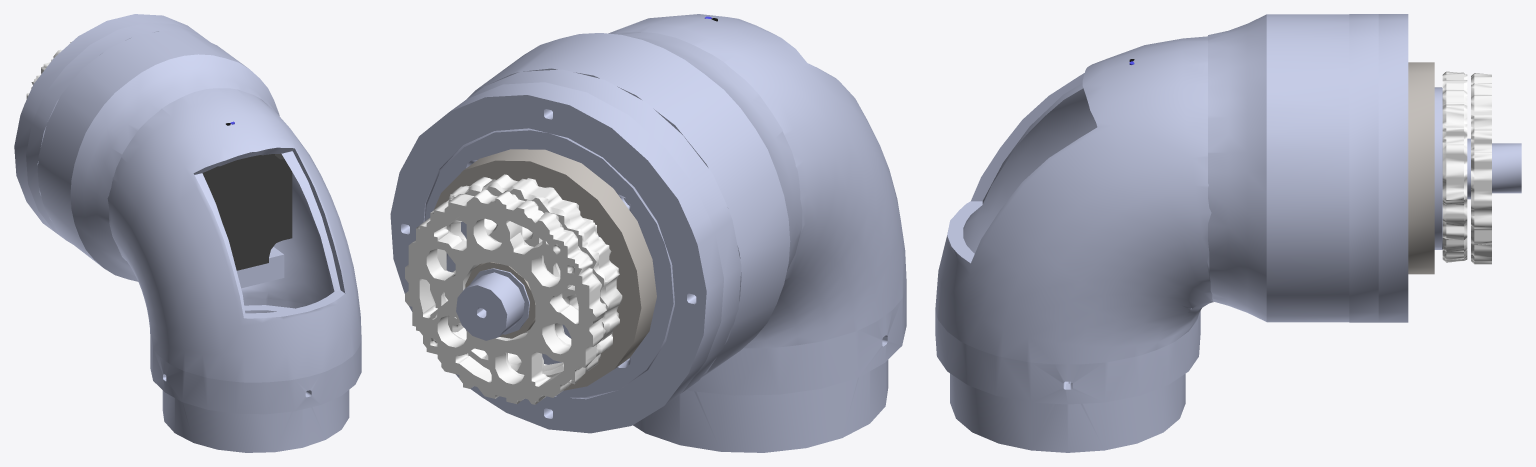
The model's file is shoulder_link.dae.
The picture shows the model from 3 angles, left to right: view 1: azimuth 30°, elevation 25°; view 2: azimuth 150°, elevation 25°; view 3: azimuth 270°, elevation 25°; orthographic projection. The views are drawn at different scales.
Parts seen in each view (by area): view 1: shoulder_link; view 2: shoulder_link; view 3: shoulder_link.
Part boxes in pixels (x1,y1,x2,y2): shoulder_link: [14, 14, 361, 452]; shoulder_link: [390, 14, 906, 452]; shoulder_link: [935, 14, 1521, 452].
Size of the model in its own units: 0.105 by 0.199 by 0.1405.
